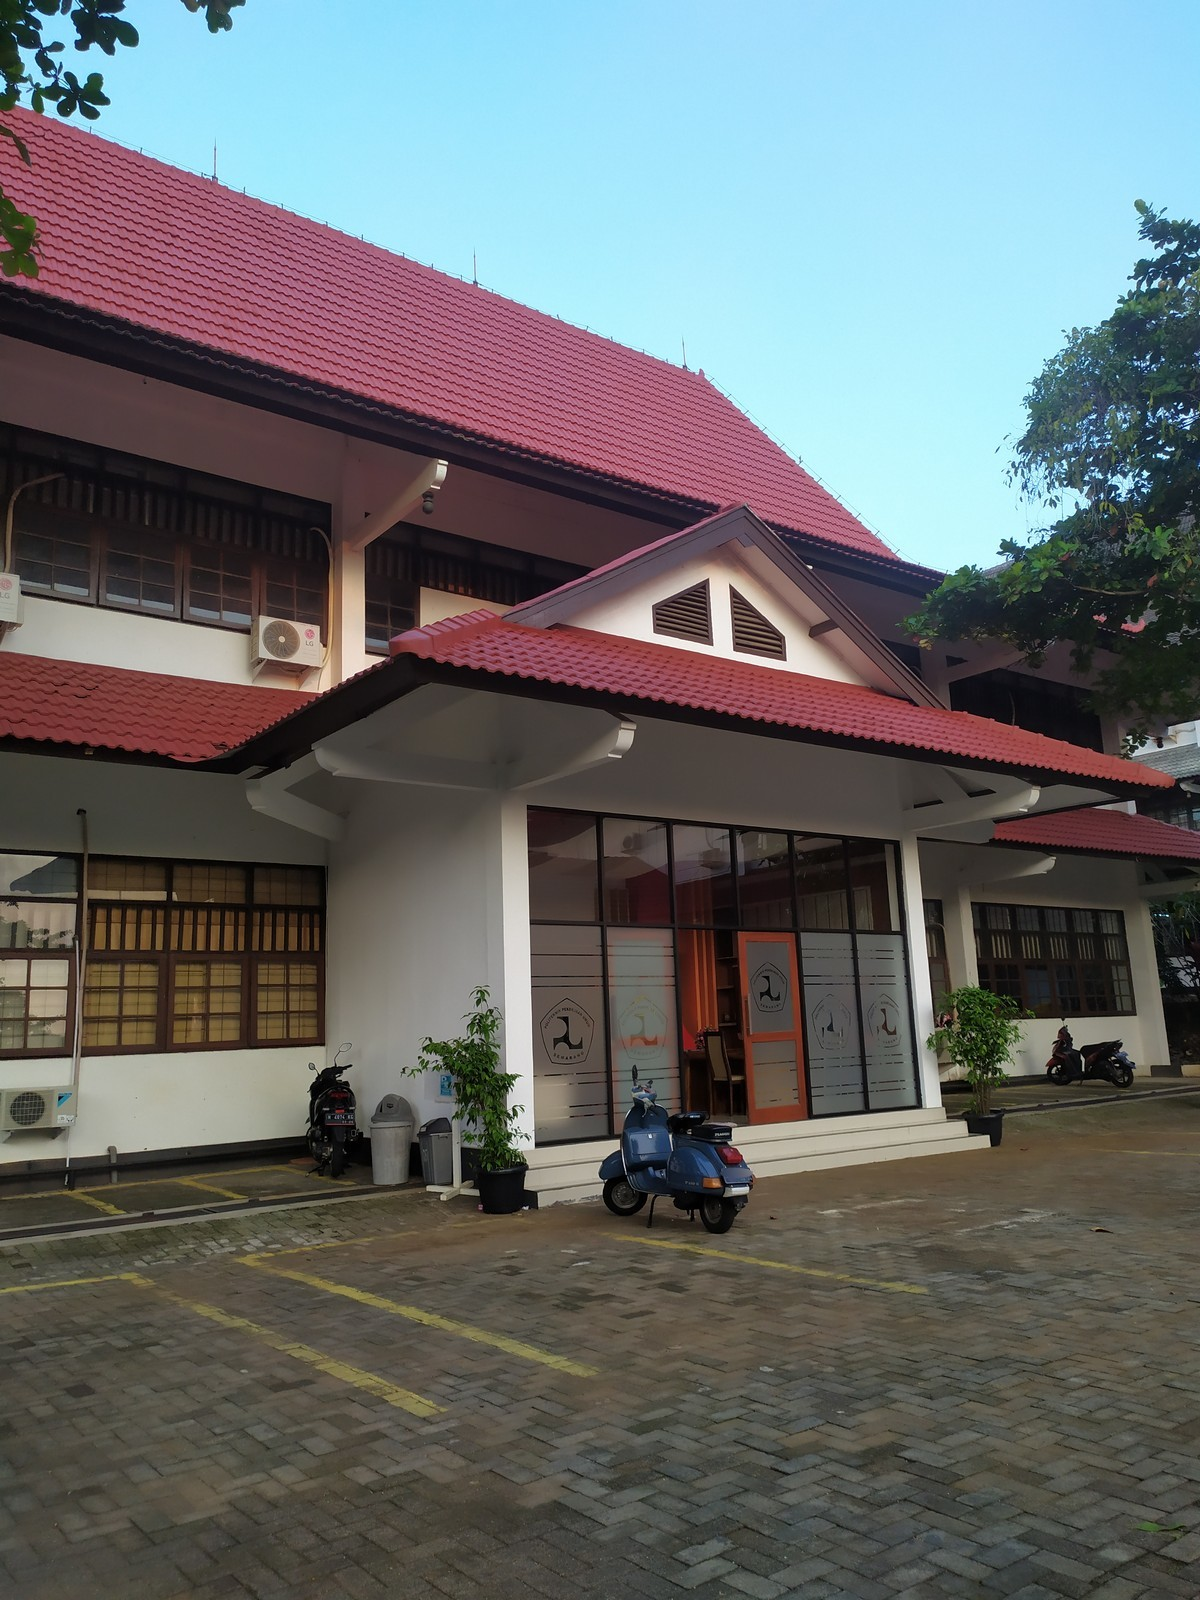concrete column: (325, 443, 371, 675)
